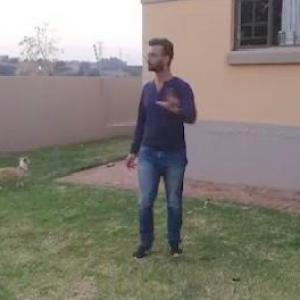land_hand: (158, 82, 190, 119)
